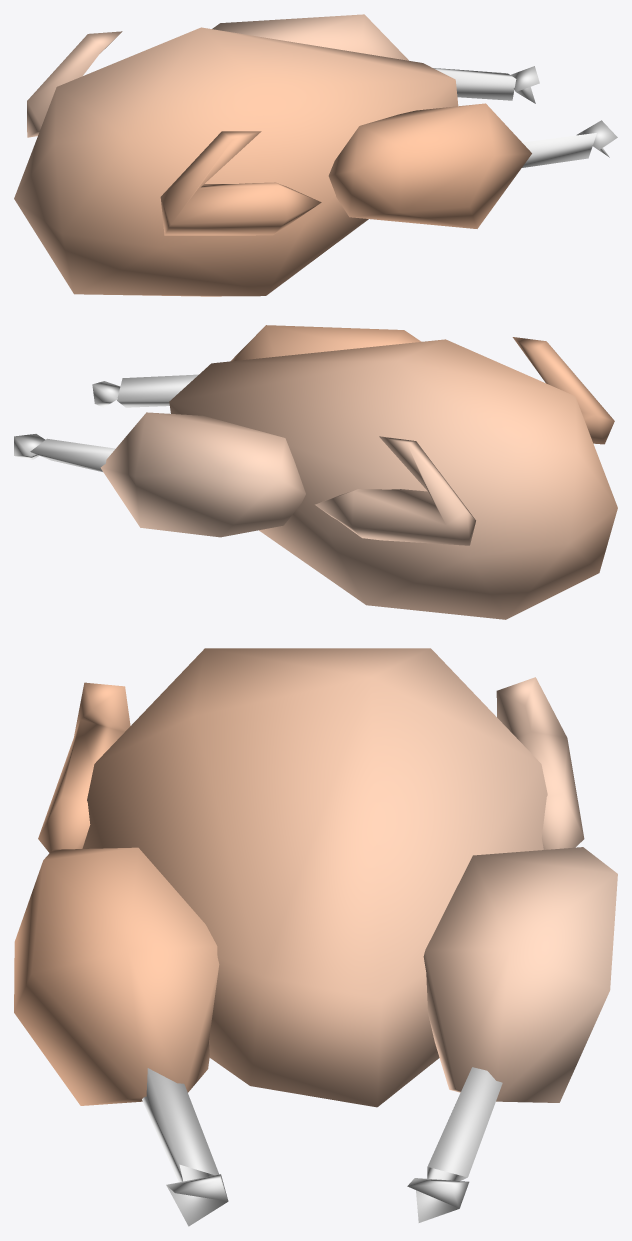
Rendered from Daging.fbx.
3 views of the same model, one above another, from view 1: azimuth 30°, elevation 25°; view 2: azimuth 150°, elevation 25°; view 3: azimuth 270°, elevation 25° (orthographic). The views are drawn at different scales.
Parts seen in each view (by area): view 1: Ayam_LOD0; view 2: Ayam_LOD0; view 3: Ayam_LOD0.
Part boxes in pixels (left/top/right/bottom): Ayam_LOD0: left=14, top=14, right=617, bottom=296; Ayam_LOD0: left=14, top=325, right=617, bottom=619; Ayam_LOD0: left=14, top=648, right=617, bottom=1226.
Size of what is drawn, in the model's own units: 180 by 71.46 by 110.
